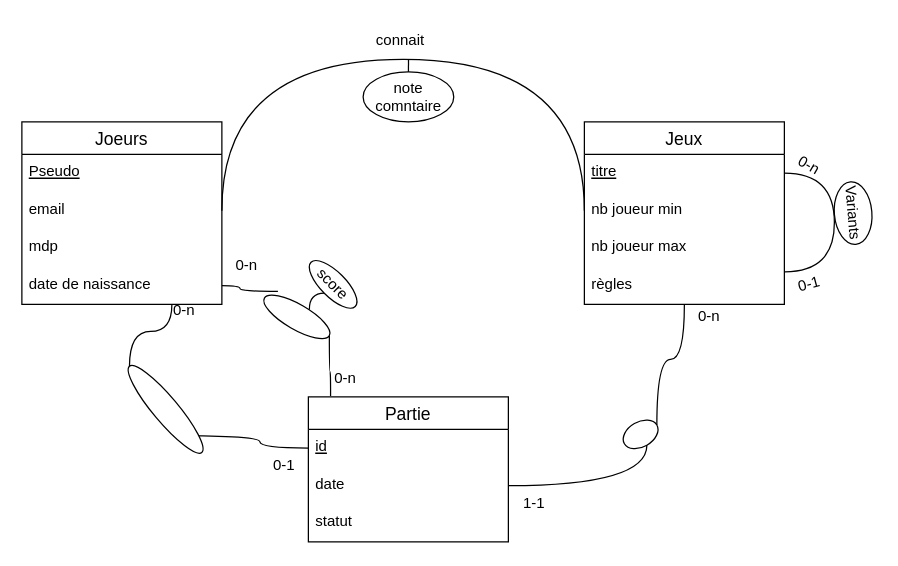
Some shapes in this 898 by 566 pixel diagram are drawn without their labels. The shapes that lost their labels are listed below. From the top down, each one's centre as x and y in pixels, then its label:
At point 296,316: "participe".
At point 165,409: "organisation".
At point 640,434: "type".
